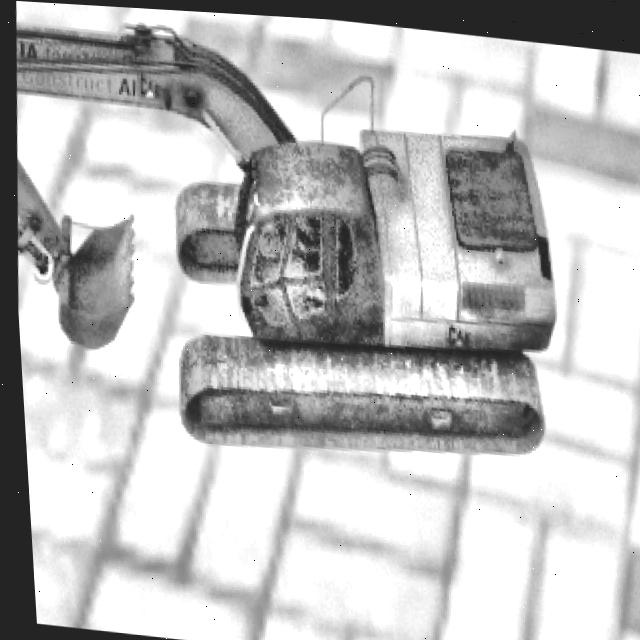excavator: (0, 2, 572, 474)
